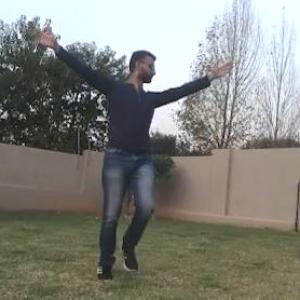takeoff: (30, 19, 241, 283)
